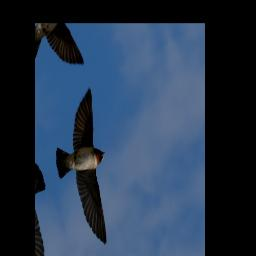Swallow: (44, 87, 126, 256)
